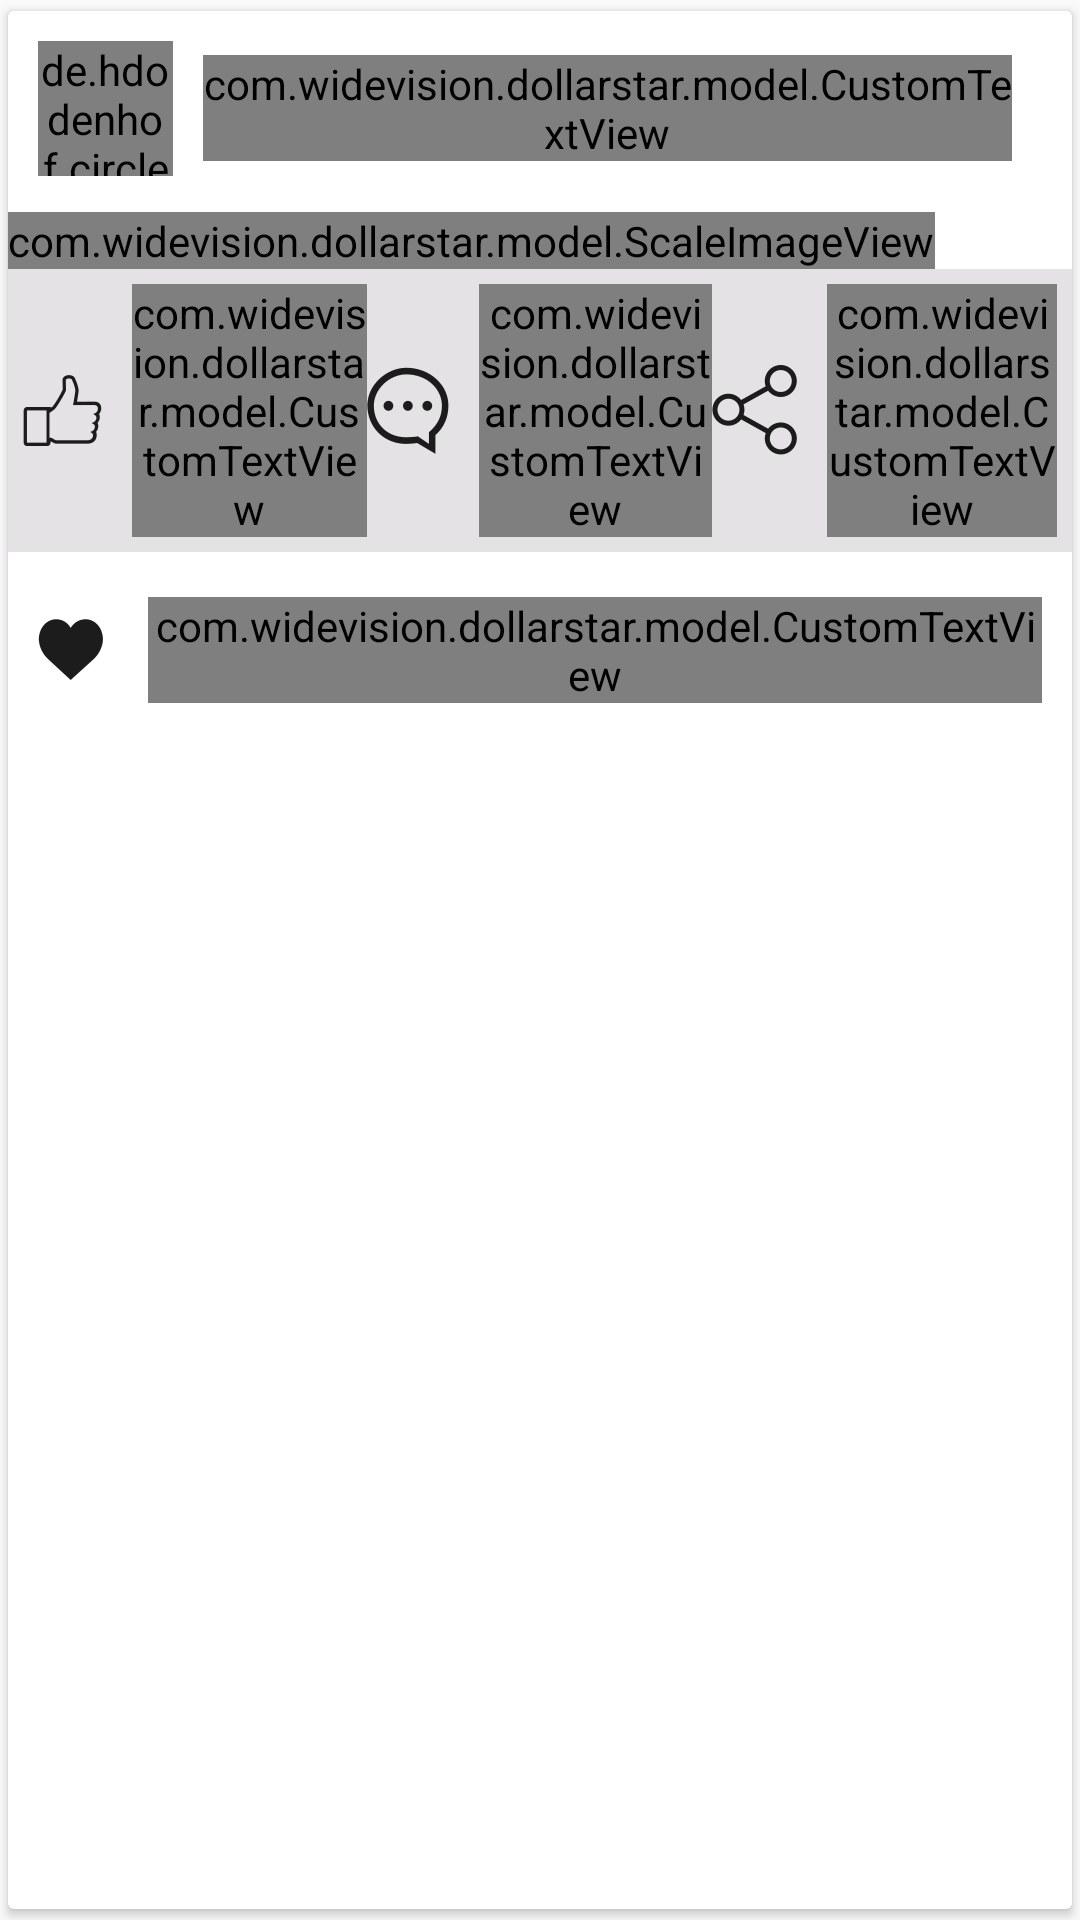

Named icons in this screenshot (1080x1920) and their centers, point (x, y):
comment: point (408, 410)
share: point (754, 410)
